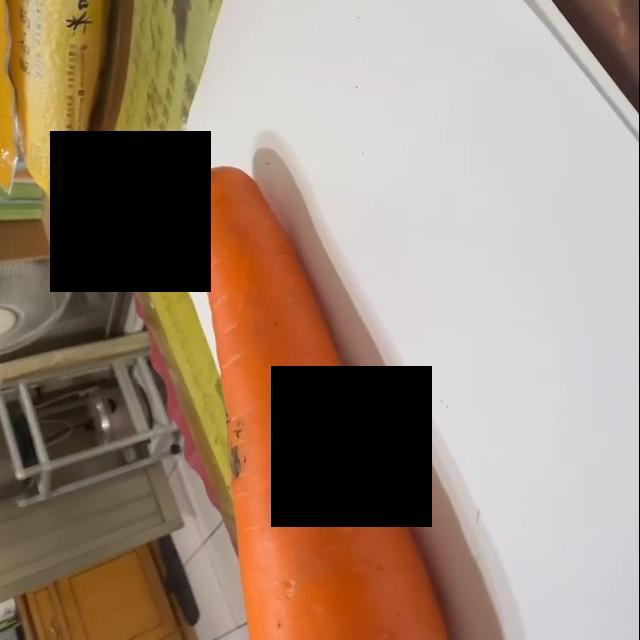carrot: (188, 165, 460, 640)
